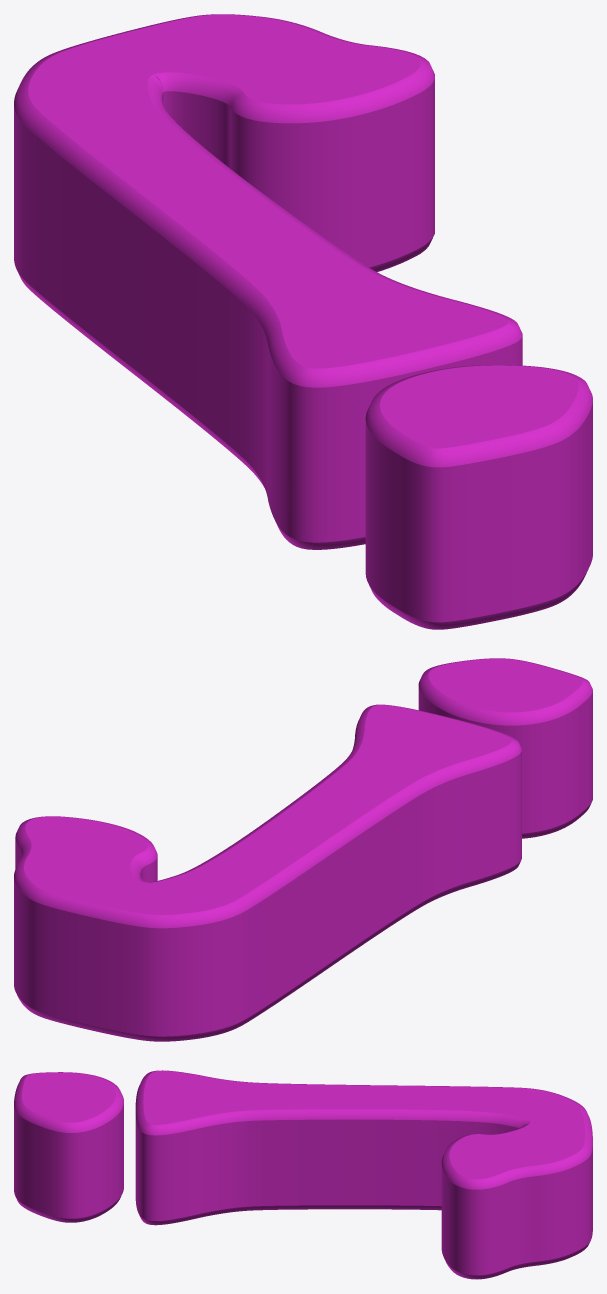
Rendered from Bubble_Letter_j.fbx.
3 renders of one model, top to bottom at view 1: azimuth 30°, elevation 25°; view 2: azimuth 150°, elevation 25°; view 3: azimuth 270°, elevation 25°, orthographic. The views are drawn at different scales.
Parts seen in each view (by area): view 1: BubbleLetter_j; view 2: BubbleLetter_j; view 3: BubbleLetter_j.
Part boxes in pixels (x1,y1,x2,y2): BubbleLetter_j: (14,14,592,629); BubbleLetter_j: (14,658,592,1041); BubbleLetter_j: (14,1070,592,1279).
Bounding box in the file's own units: 0.3465 × 0.14 × 0.7355.
